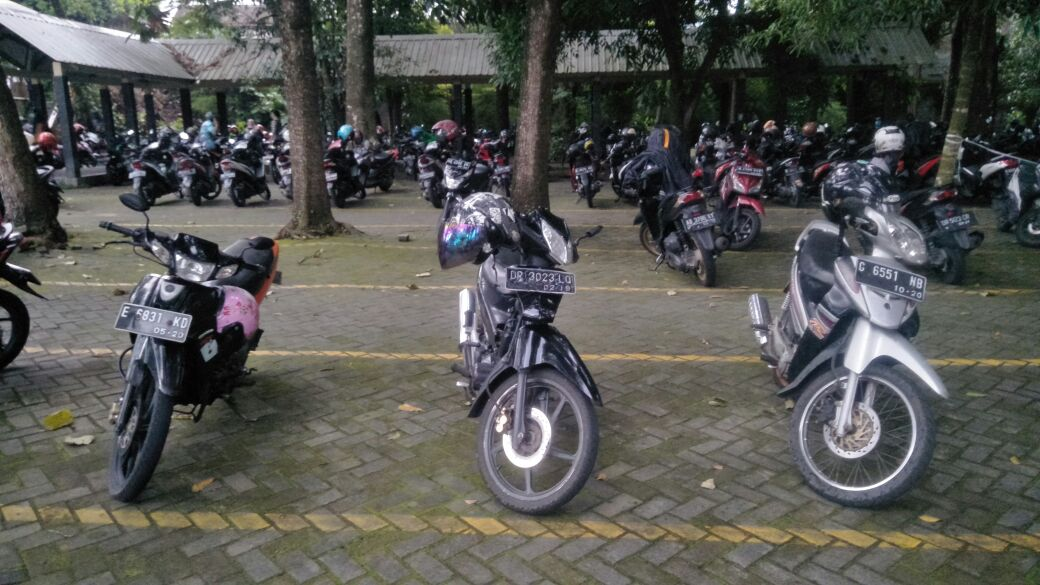plate: (853, 258, 927, 303), (115, 303, 191, 346), (504, 264, 578, 295)
